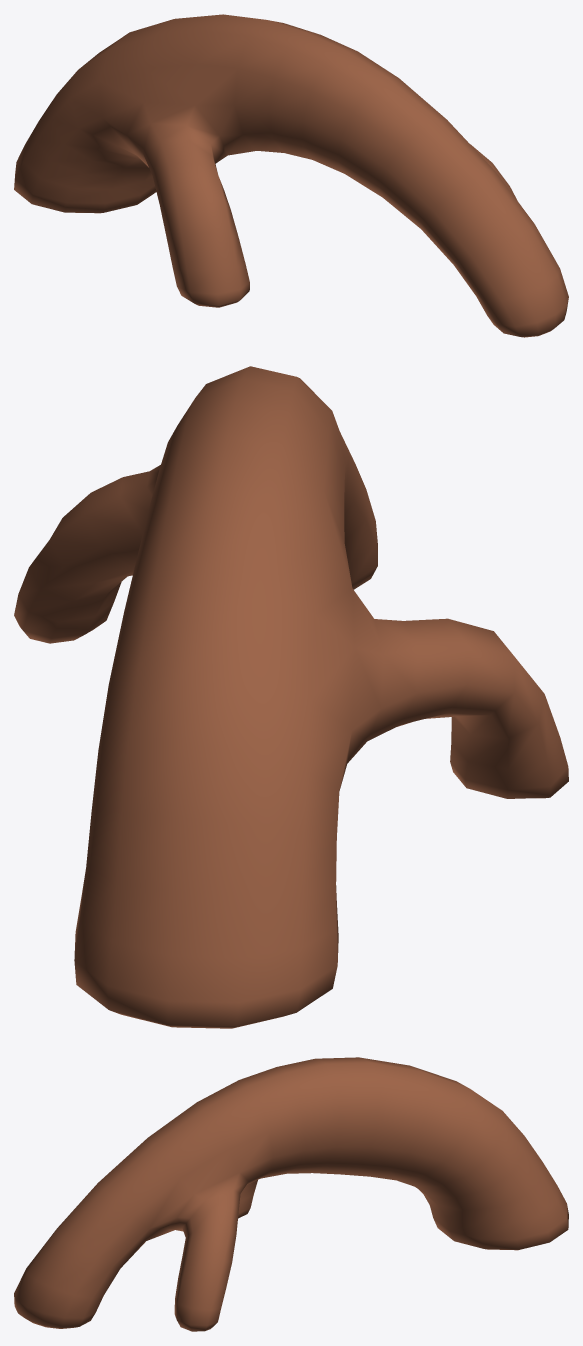
3 renders of one model, top to bottom at view 1: azimuth 30°, elevation 25°; view 2: azimuth 150°, elevation 25°; view 3: azimuth 270°, elevation 25°, orthographic. The views are drawn at different scales.
Parts seen in each view (by area): view 1: Root_03_LOD0; view 2: Root_03_LOD0; view 3: Root_03_LOD0.
Boxes of the visible parts, <box> form: Root_03_LOD0: <box>14,14,568,337</box>; Root_03_LOD0: <box>14,366,568,1028</box>; Root_03_LOD0: <box>14,1057,568,1331</box>.
Size of what is drawn, in the model's own units: 372 by 234 by 585.
